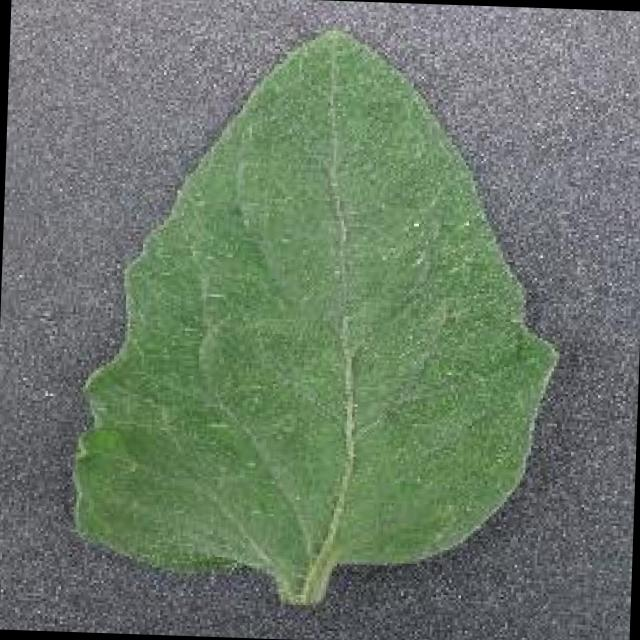Tomato_Healthy: (54, 28, 576, 580)
